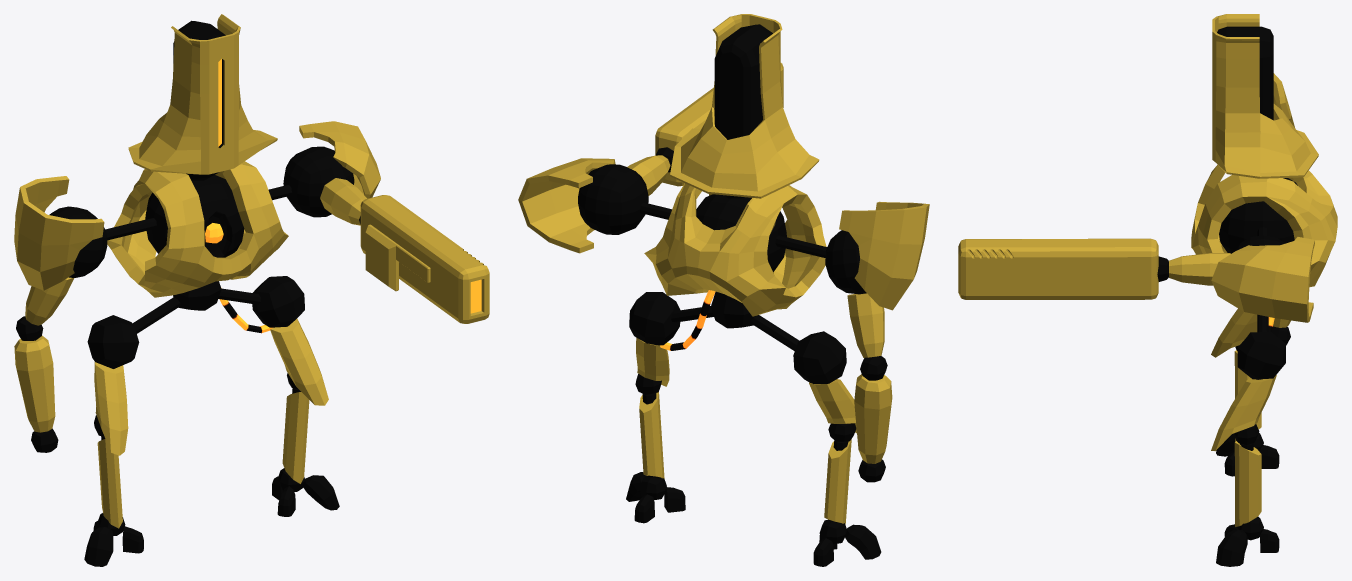
Rendered from shooter_posed.fbx.
3 views of the same model, side by side, from view 1: azimuth 30°, elevation 25°; view 2: azimuth 150°, elevation 25°; view 3: azimuth 270°, elevation 25° (orthographic). The views are drawn at different scales.
Parts seen in each view (by area): view 1: shooter_posed; view 2: shooter_posed; view 3: shooter_posed.
Boxes of the visible parts, left/top/right/bottom form: shooter_posed: left=14, top=14, right=489, bottom=566; shooter_posed: left=518, top=14, right=929, bottom=566; shooter_posed: left=958, top=14, right=1337, bottom=566.
Size of the model in its own units: 83.93 by 107 by 76.09.
